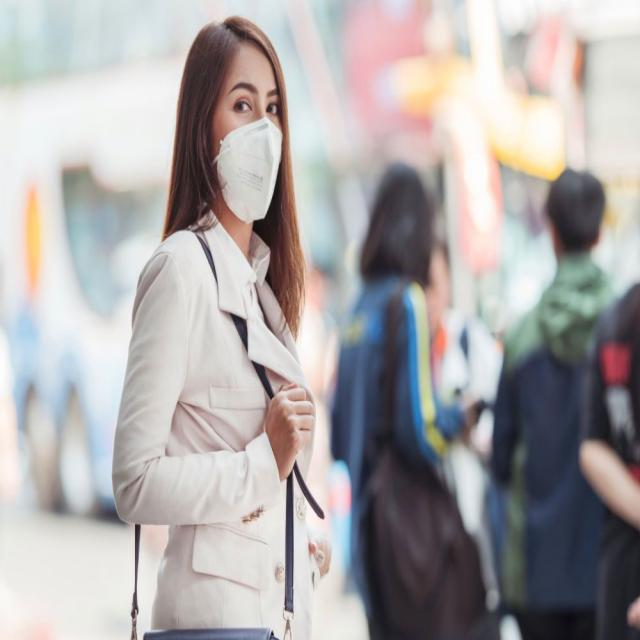adult: (112, 19, 331, 640)
